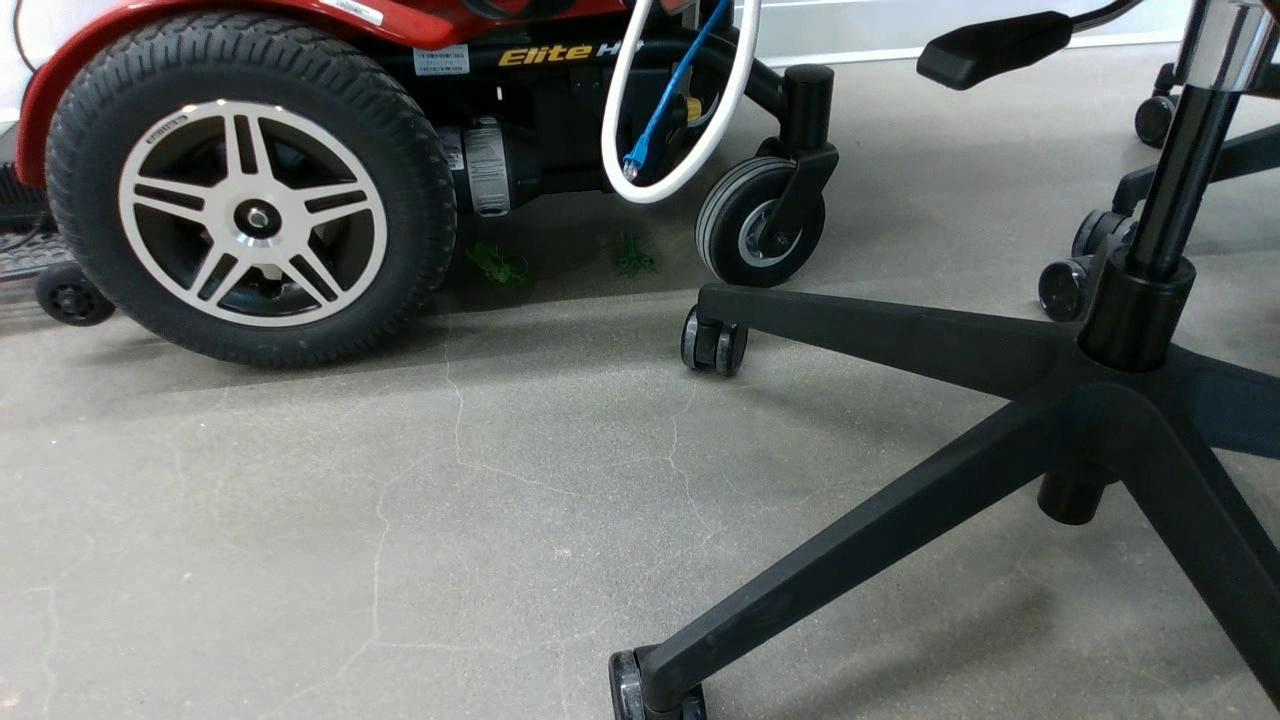grasshopper: (466, 239, 527, 283)
